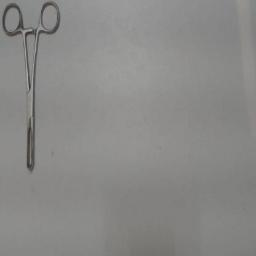Allis Tissue Forceps: (1, 0, 65, 182)
